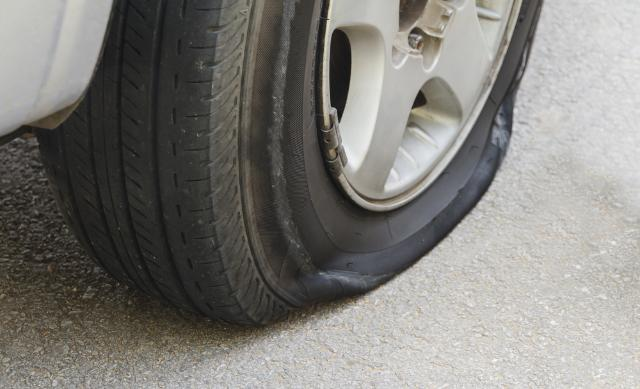tire flat: (33, 0, 544, 326)
